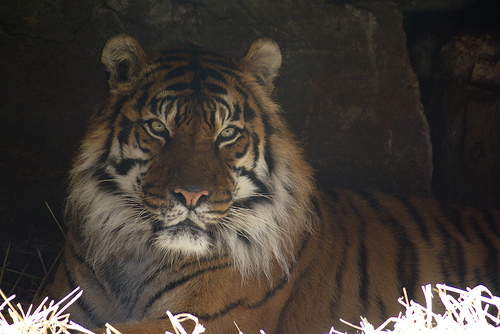Tigre: (74, 39, 446, 317)
